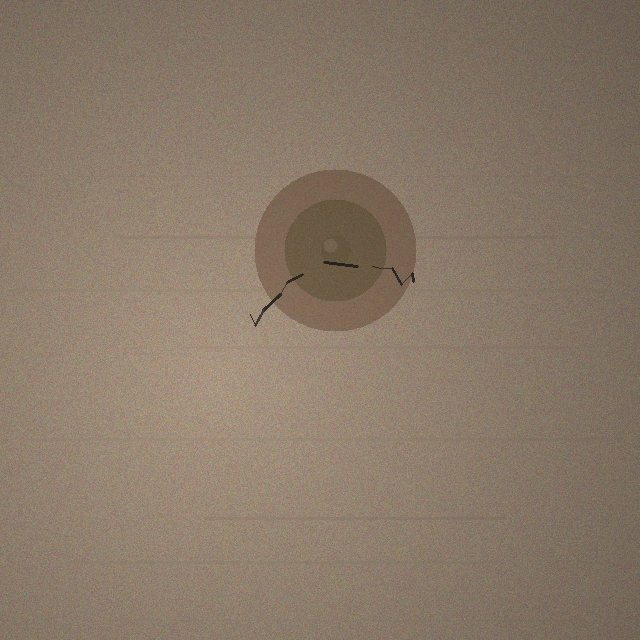crack: (254, 169, 416, 331)
